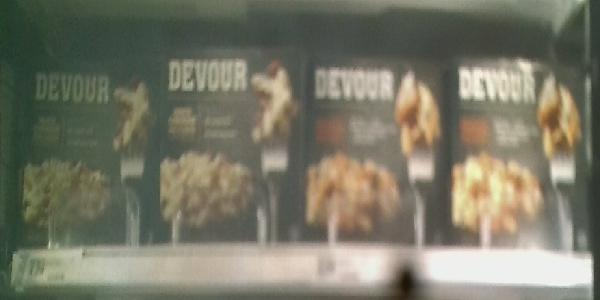pizza1: (154, 46, 295, 245), (450, 58, 590, 258), (302, 55, 439, 247), (19, 63, 147, 246)
